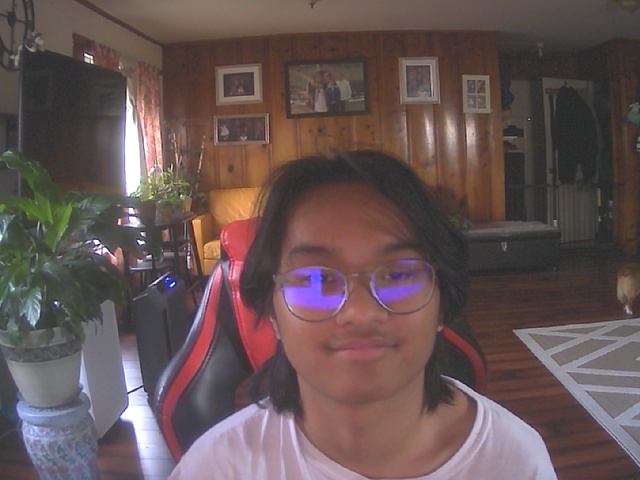happy: (264, 156, 451, 405)
